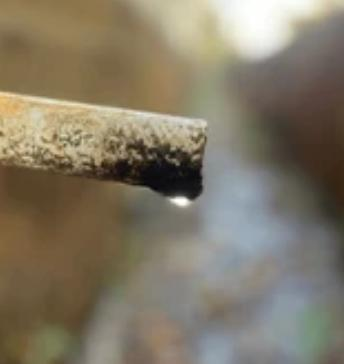water drop: (160, 184, 200, 207)
